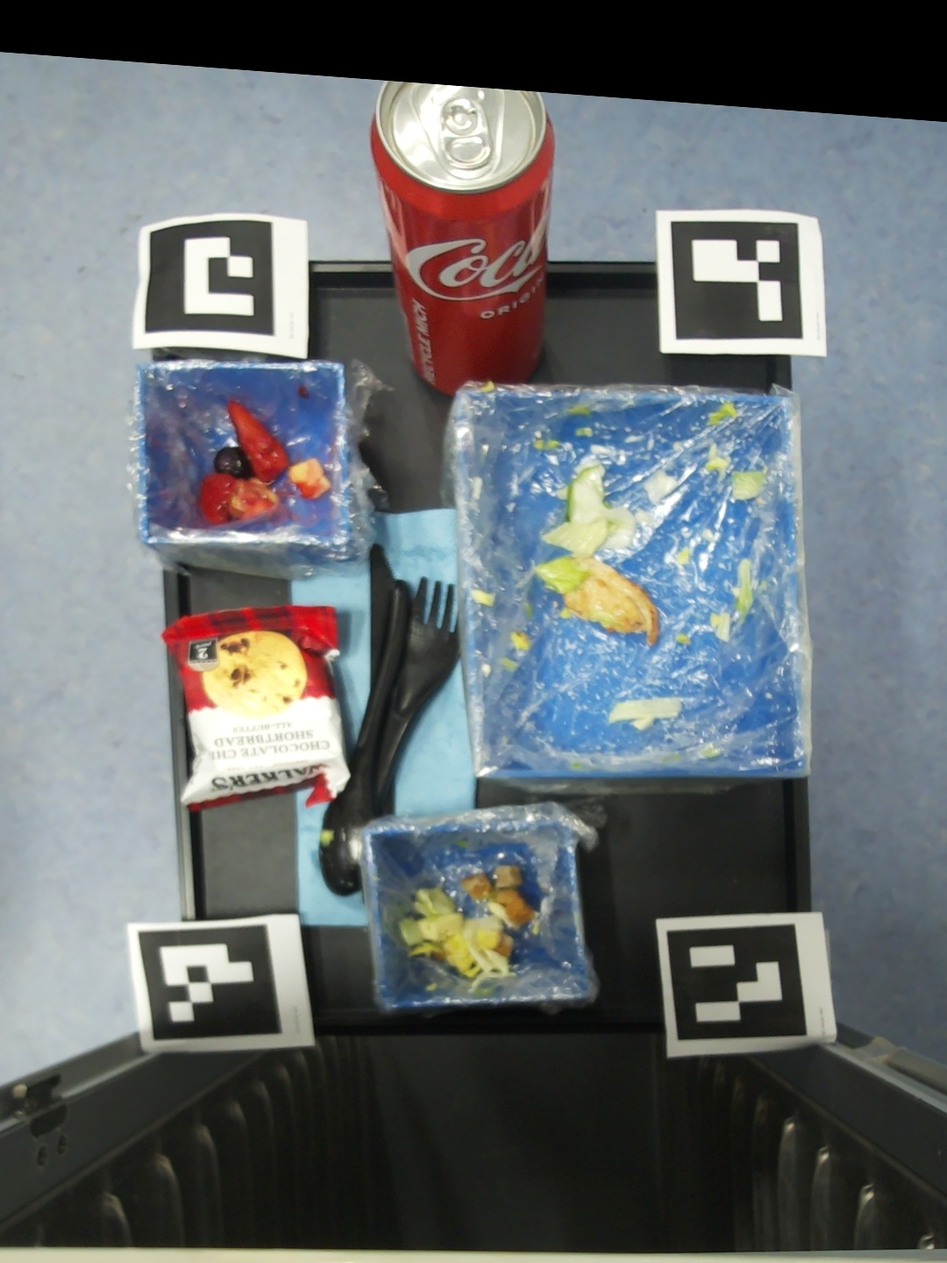cola_can: (368, 81, 556, 394)
cookie: (160, 606, 350, 811)
fruit_salad: (198, 400, 331, 523)
salad_main: (534, 464, 659, 645), (608, 698, 683, 731), (731, 558, 754, 619), (641, 468, 680, 503), (730, 471, 765, 500), (705, 440, 730, 471), (705, 402, 736, 425), (710, 612, 729, 643), (469, 590, 497, 607), (510, 631, 531, 650), (497, 657, 518, 671), (533, 439, 559, 449), (701, 527, 716, 543), (677, 546, 690, 564), (568, 405, 590, 415), (480, 382, 496, 393), (575, 427, 594, 436), (701, 748, 719, 757), (677, 634, 692, 644), (525, 604, 533, 617)
side_salad: (398, 866, 539, 995), (427, 982, 437, 990)
